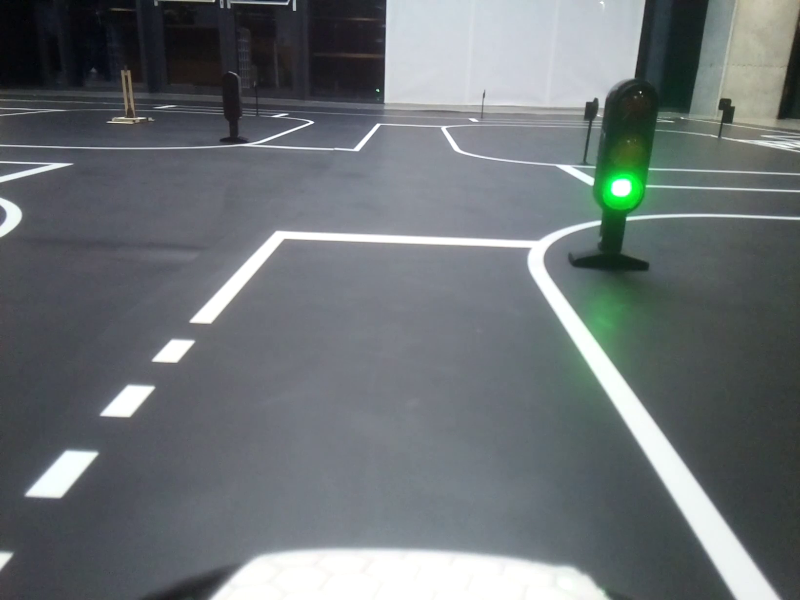traffic_green: (598, 81, 644, 216)
